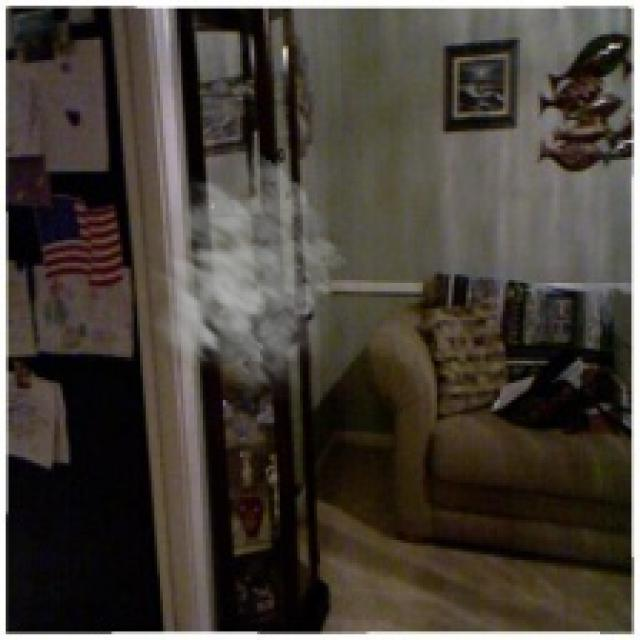smoke: (123, 143, 348, 406)
